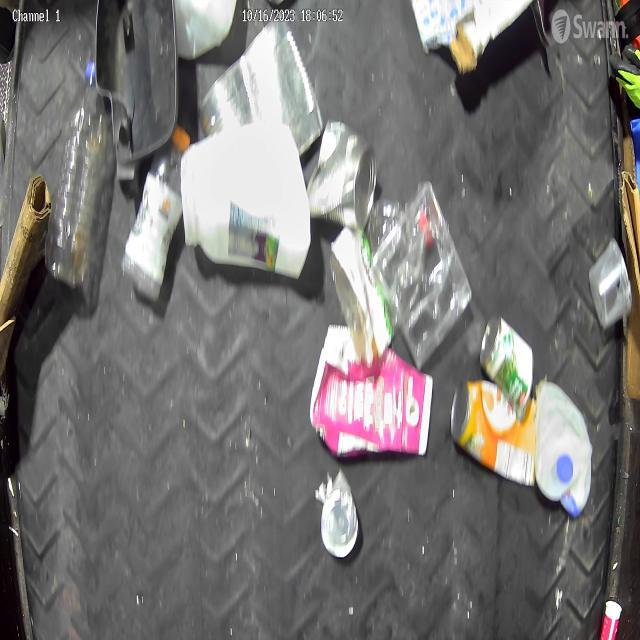can: (308, 122, 376, 218), (482, 317, 534, 410), (319, 490, 362, 560)
milk_jug: (181, 116, 309, 280)
plastic_bottle: (38, 69, 114, 287)
